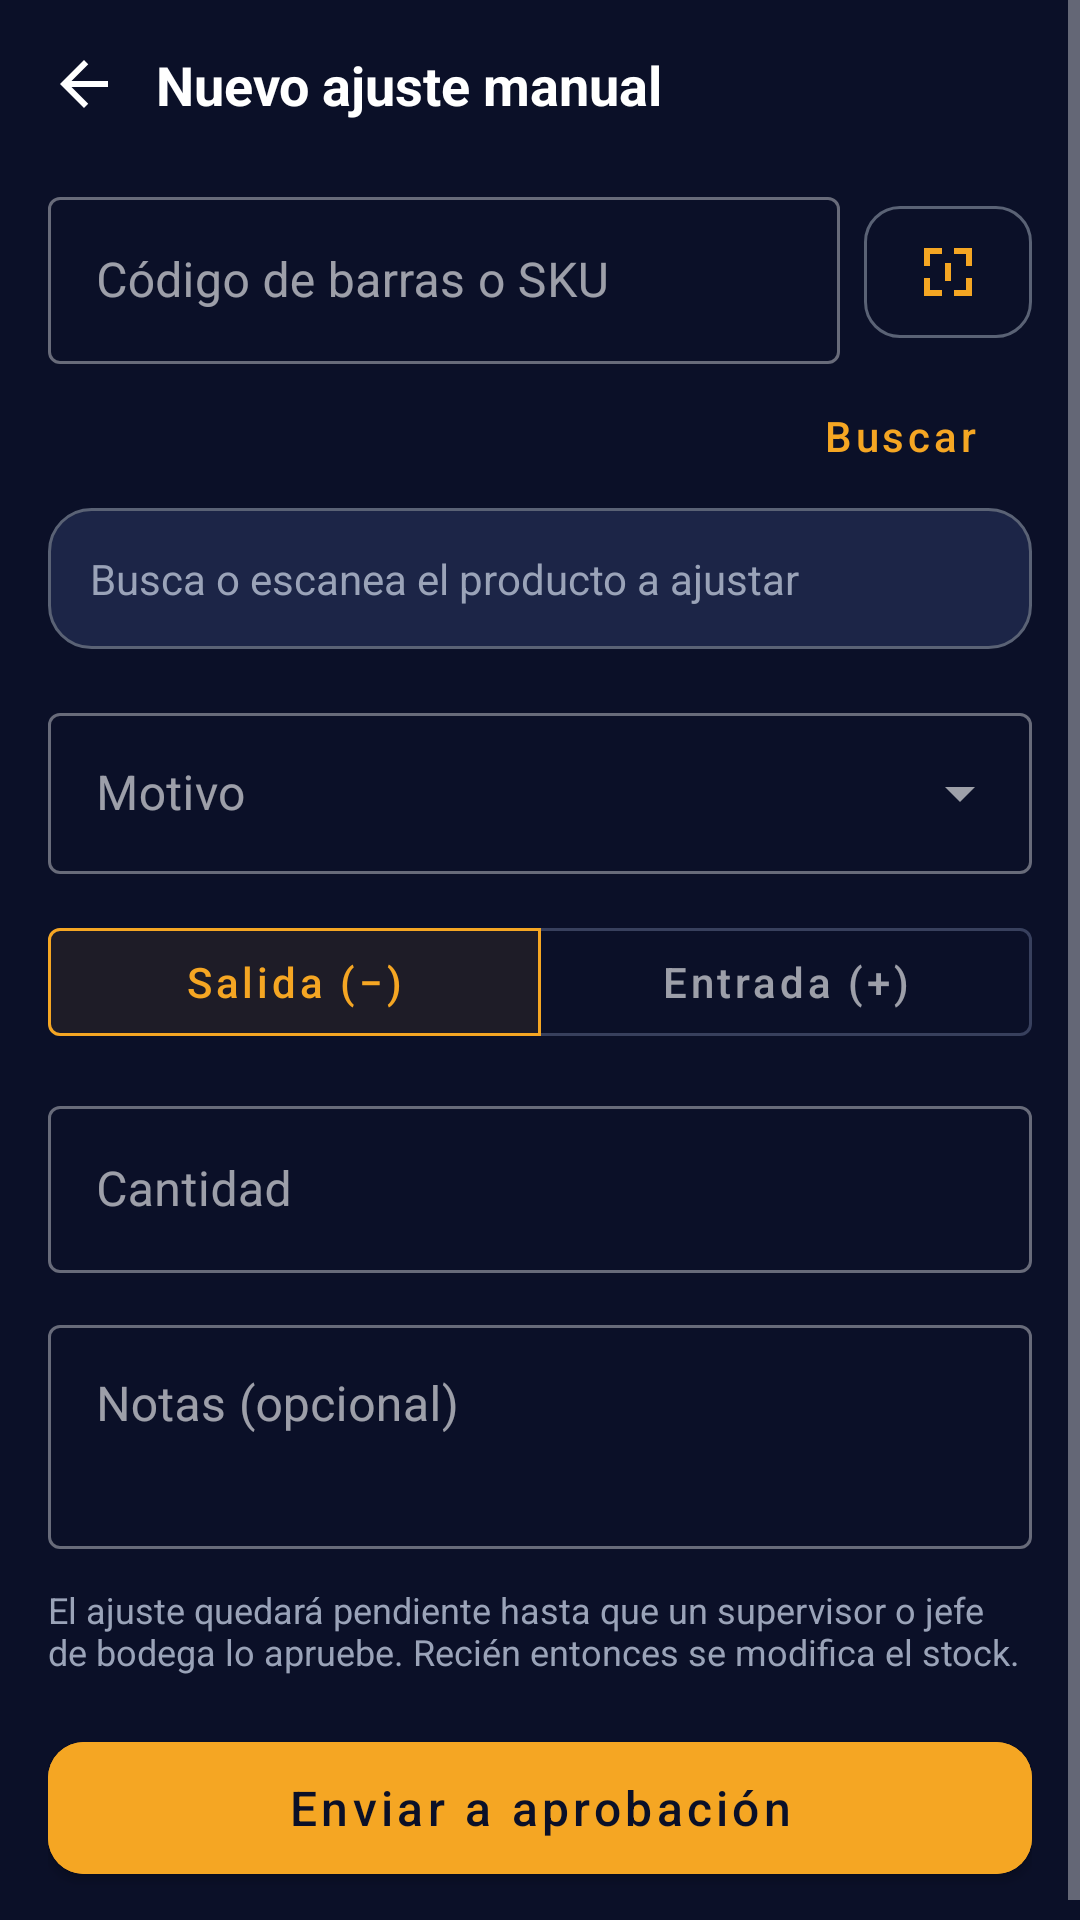

Icon click points for this 1080x1920 phone screenshot, format [x,y]:
Escanear ahora: [948,272]
Volver: [84,84]
